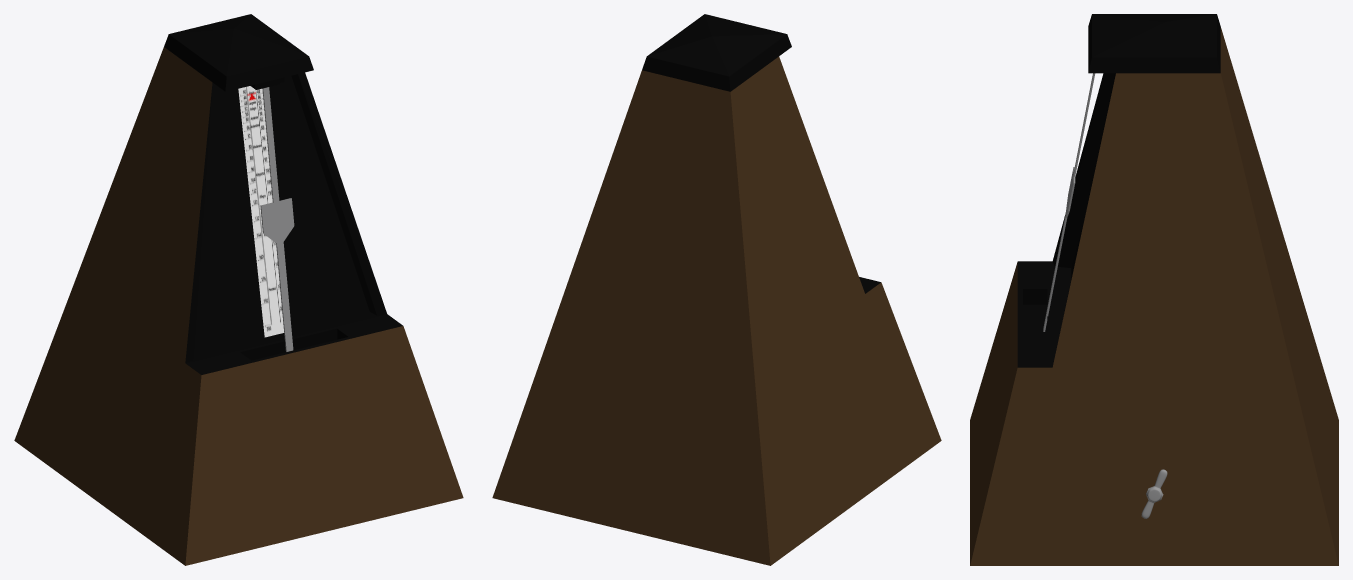
The model's file is метроном.FBX.
3 views of the same model, side by side, from view 1: azimuth 30°, elevation 25°; view 2: azimuth 150°, elevation 25°; view 3: azimuth 270°, elevation 25° (orthographic). The views are drawn at different scales.
Visible parts, largest first — view 1: метроном, Plane077, Line231; view 2: метроном; view 3: метроном, Line231.
Boxes of the visible parts, <box> form: метроном: <box>14,14,463,565</box>; Plane077: <box>238,86,284,337</box>; Line231: <box>260,87,294,351</box>; метроном: <box>492,14,941,565</box>; метроном: <box>970,14,1338,565</box>; Line231: <box>1043,73,1095,331</box>.
Bounding box in the file's own units: 179 × 269 × 191.
